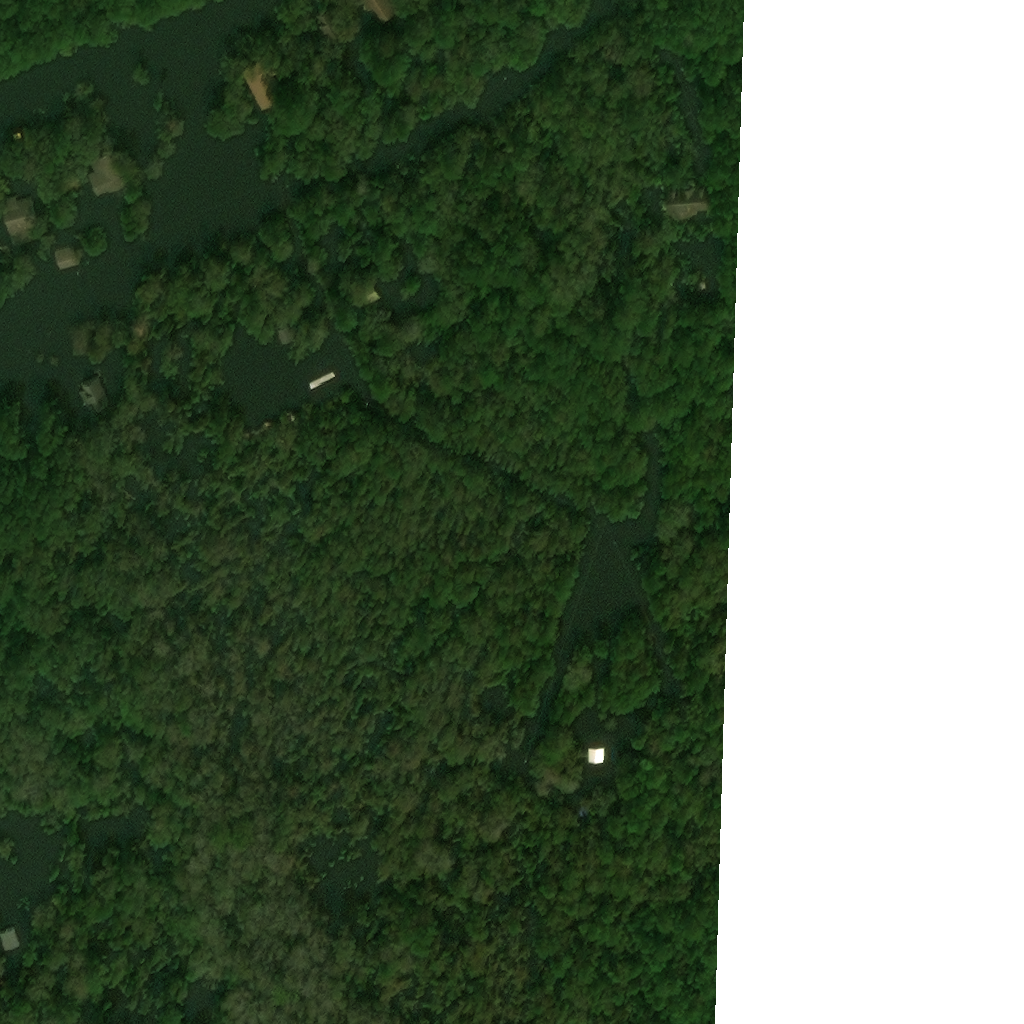destroyed: (268, 375, 285, 395)
major_damage: (0, 194, 40, 244), (85, 147, 124, 193), (239, 56, 279, 96), (313, 0, 346, 38), (661, 185, 702, 215), (79, 375, 109, 409), (360, 0, 401, 24), (350, 280, 380, 308), (273, 325, 306, 347), (54, 246, 81, 269), (306, 370, 335, 390), (0, 927, 21, 949), (588, 749, 604, 764)
unclassified: (532, 758, 580, 792), (657, 286, 678, 310), (64, 177, 82, 197), (407, 280, 428, 296), (546, 747, 560, 763)
